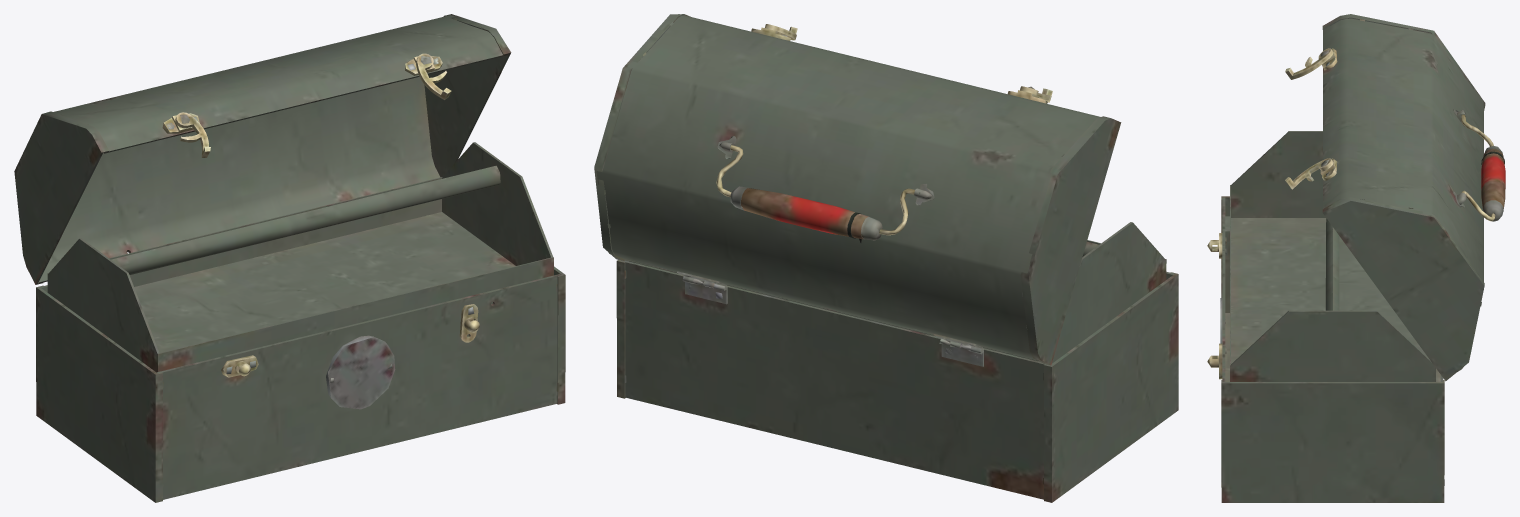
The model's file is metal_toolbox.gltf.
3 views of the same model, side by side, from view 1: azimuth 30°, elevation 25°; view 2: azimuth 150°, elevation 25°; view 3: azimuth 270°, elevation 25° (orthographic). The views are drawn at different scales.
Visible parts, largest first — view 1: metal_toolbox_lid, metal_toolbox, metal_toolbox_tray, metal_toolbox_handle_latch_r, metal_toolbox_handle_latch_l; view 2: metal_toolbox_lid, metal_toolbox, metal_toolbox_tray, metal_toolbox_handle; view 3: metal_toolbox_lid, metal_toolbox_tray, metal_toolbox, metal_toolbox_handle, metal_toolbox_handle_latch_l, metal_toolbox_handle_latch_r.
Part boxes in pixels (x1=…): metal_toolbox_lid: x1=14, y1=14, x2=511, y2=284; metal_toolbox: x1=36, y1=266, x2=565, y2=502; metal_toolbox_tray: x1=47, y1=142, x2=553, y2=372; metal_toolbox_handle_latch_r: x1=416, y1=53, x2=451, y2=99; metal_toolbox_handle_latch_l: x1=175, y1=112, x2=210, y2=157; metal_toolbox_lid: x1=594, y1=14, x2=1121, y2=365; metal_toolbox: x1=616, y1=260, x2=1178, y2=502; metal_toolbox_tray: x1=629, y1=222, x2=1166, y2=363; metal_toolbox_handle: x1=716, y1=145, x2=914, y2=242; metal_toolbox_lid: x1=1320, y1=14, x2=1485, y2=381; metal_toolbox_tray: x1=1230, y1=131, x2=1435, y2=381; metal_toolbox: x1=1207, y1=196, x2=1444, y2=502; metal_toolbox_handle: x1=1461, y1=114, x2=1505, y2=221; metal_toolbox_handle_latch_l: x1=1285, y1=48, x2=1333, y2=79; metal_toolbox_handle_latch_r: x1=1285, y1=158, x2=1333, y2=189.
Bounding box in the file's own units: 0.4 × 0.3047 × 0.2702.
Materials: 1 (1 with a texture image).
